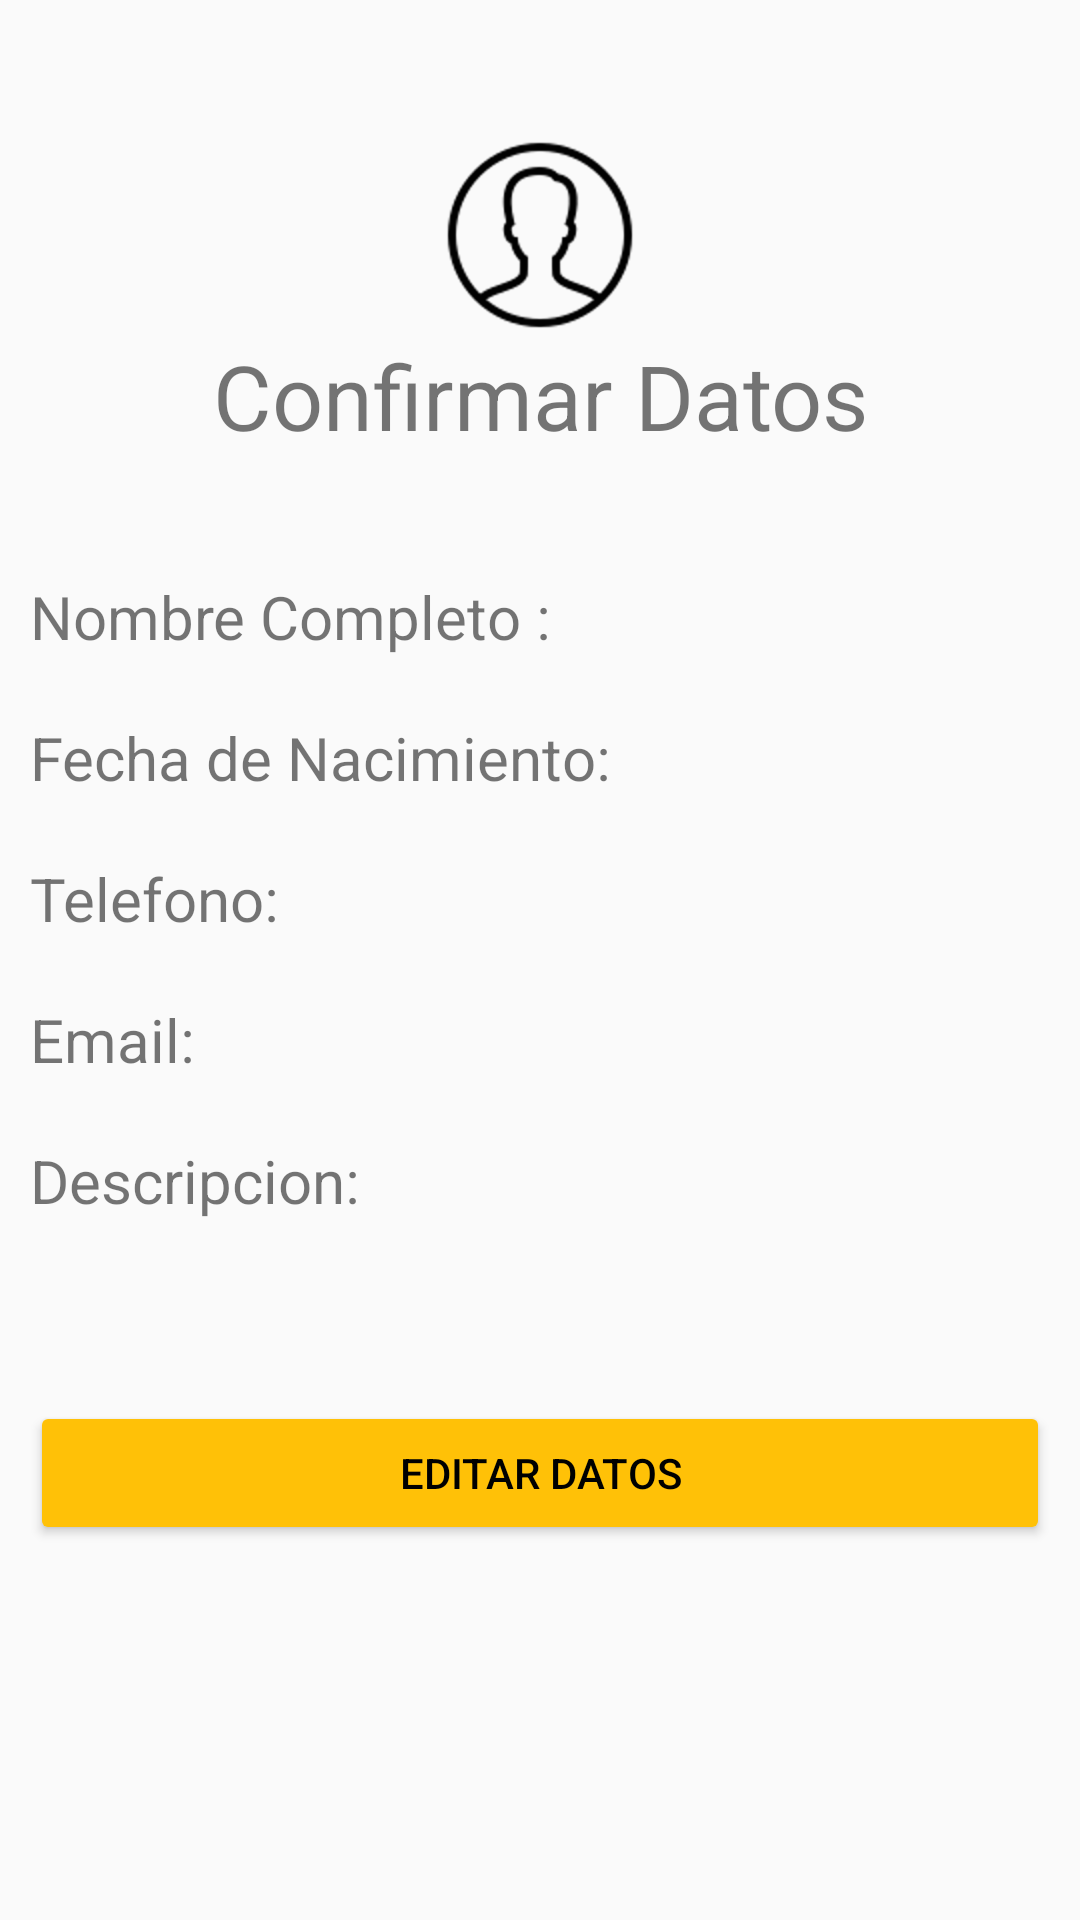

Screen size 1080×1920. Icon name, then its box in pixels as (x1, y1, x2, y2):
contacto: (447, 142, 633, 328)
